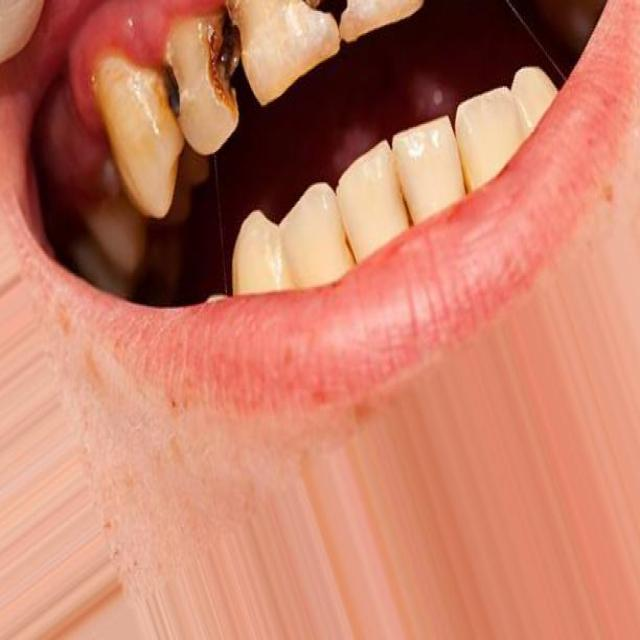caries: (200, 5, 264, 126), (152, 54, 195, 138)
